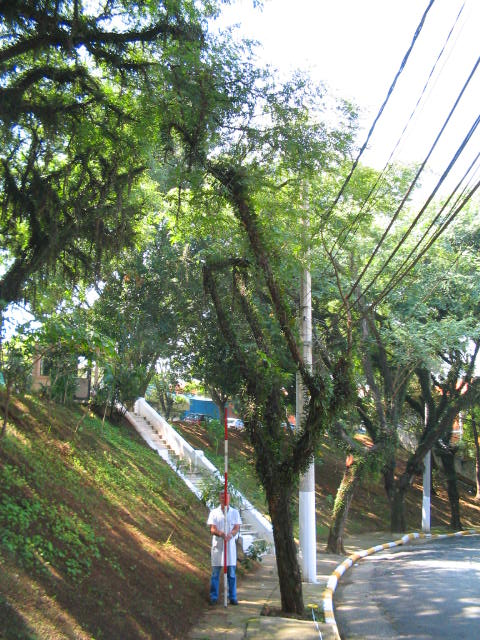stem: (251, 477, 318, 612), (323, 457, 373, 555), (434, 460, 468, 530), (379, 491, 410, 533)
stick: (217, 408, 236, 605)
tree: (86, 24, 427, 611)
